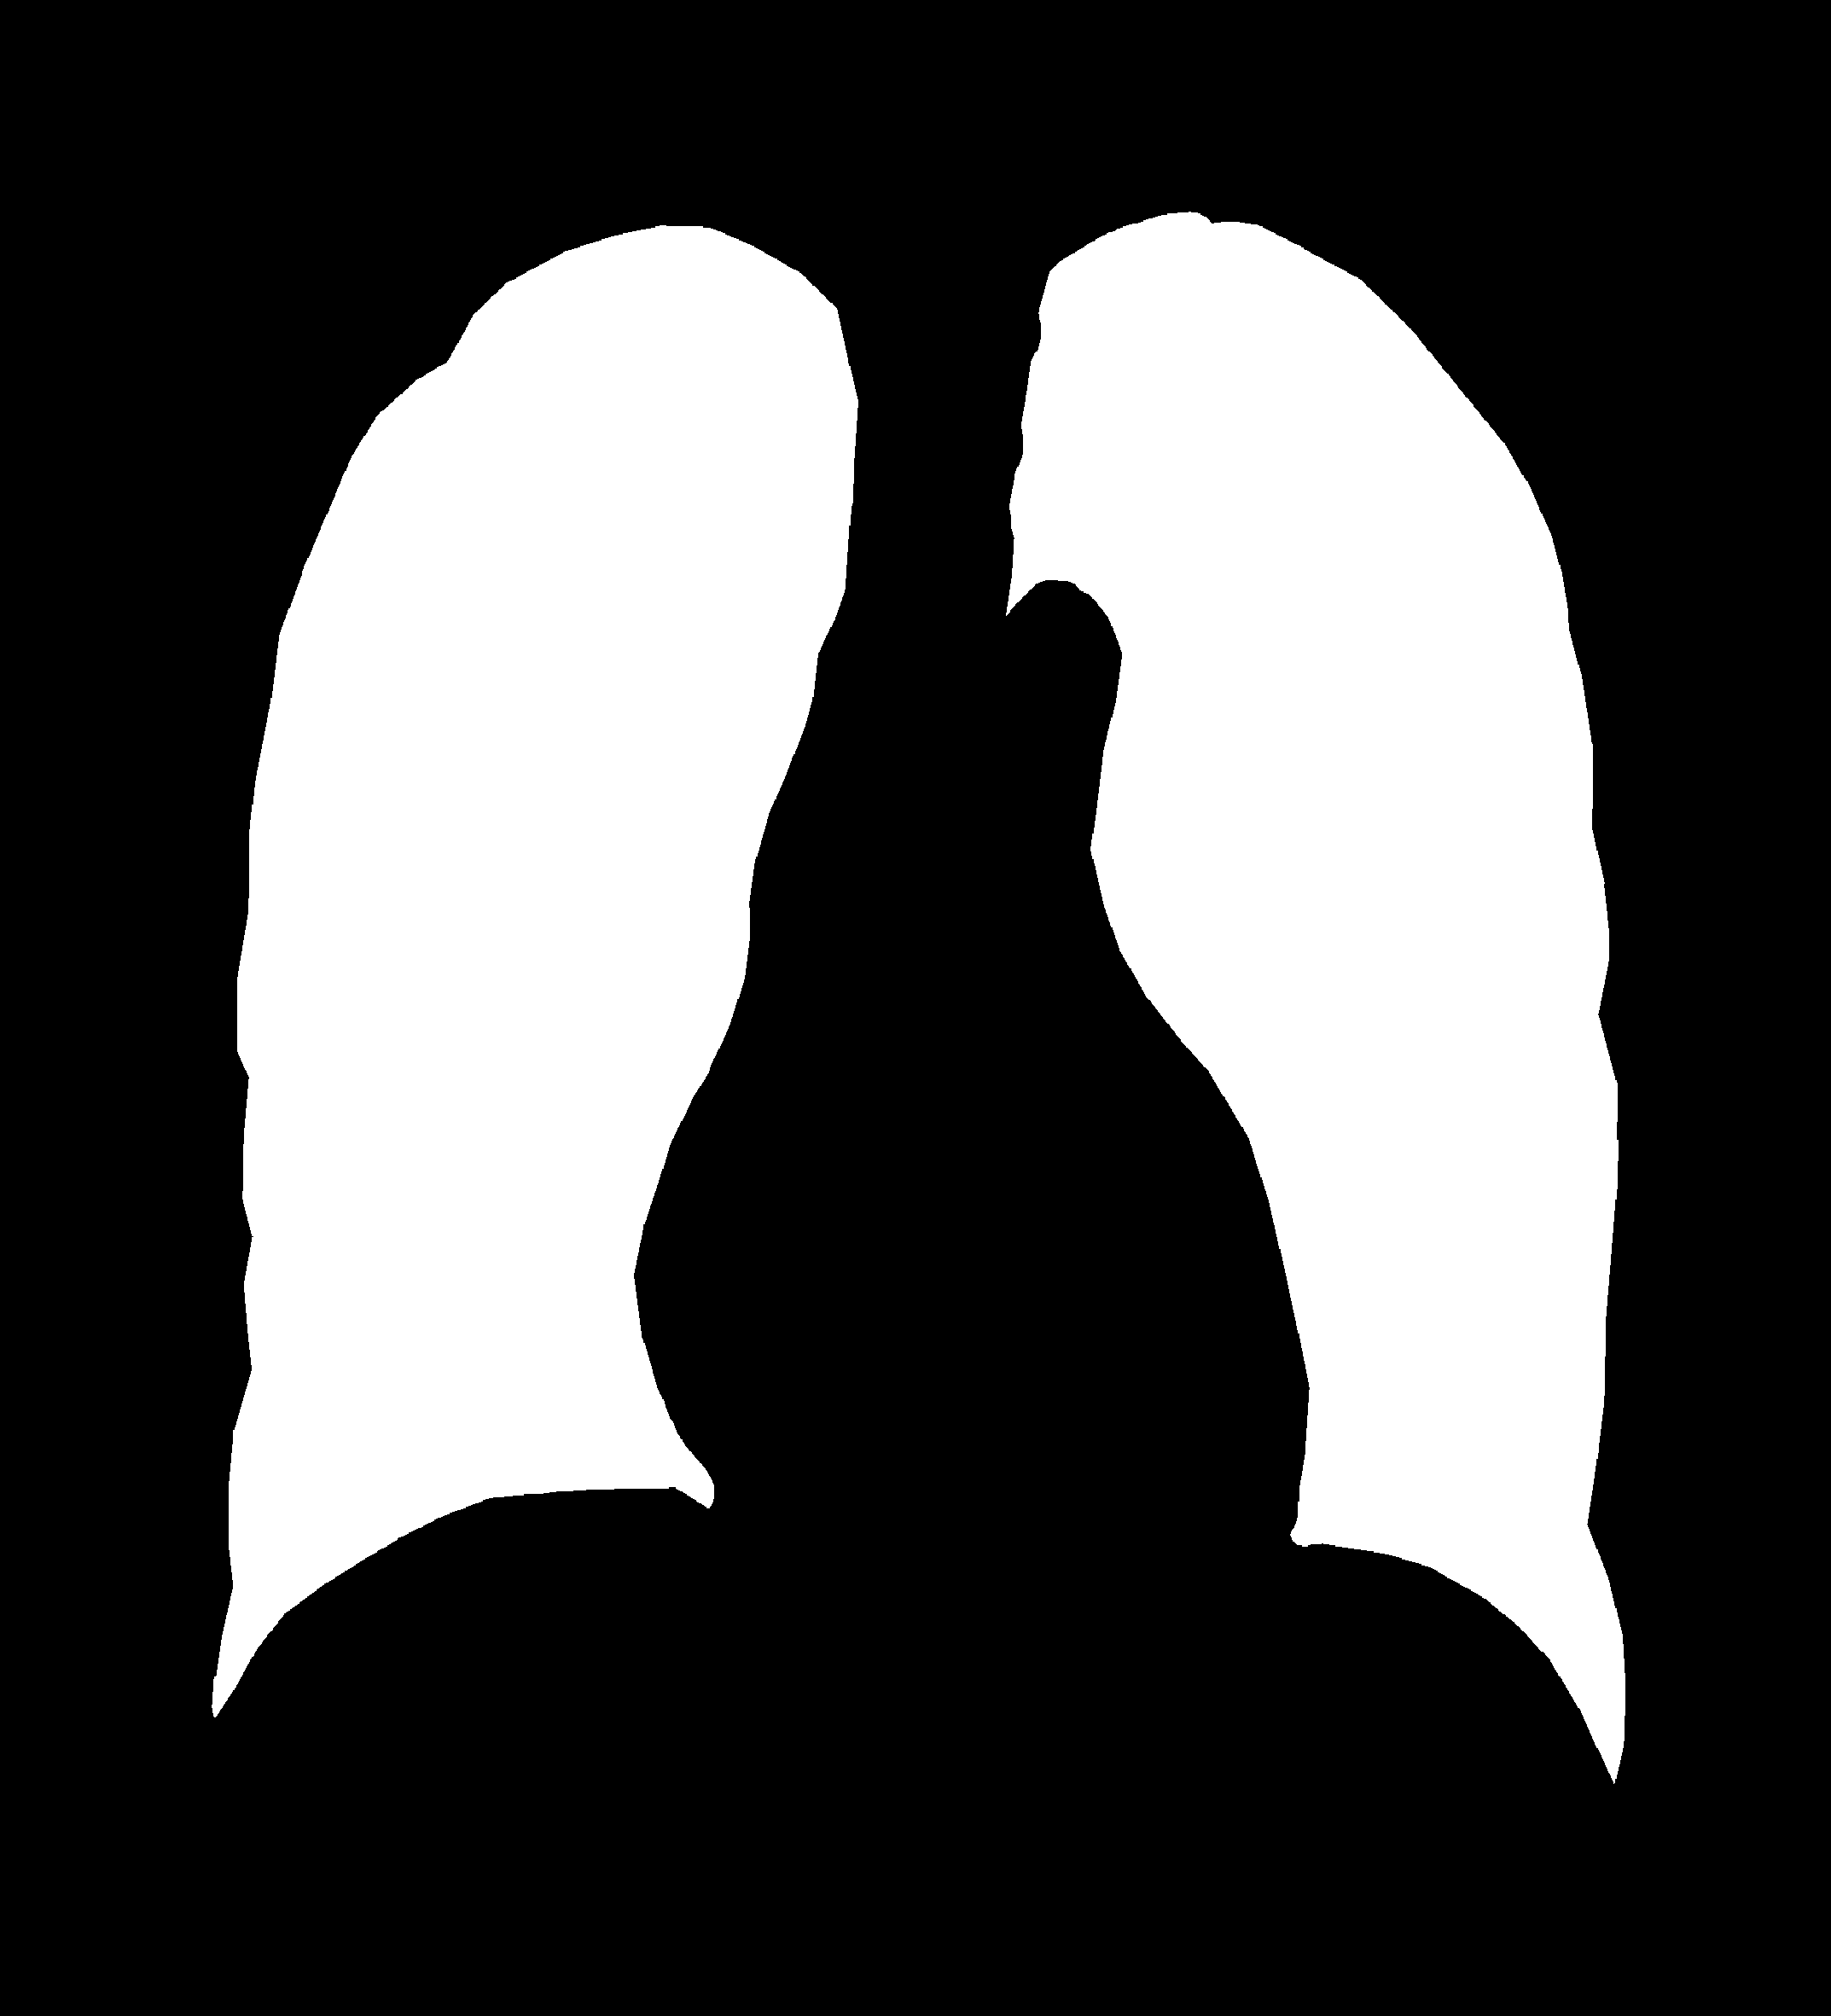heart: (635, 971, 1310, 1617)
left_lung: (212, 225, 857, 1716)
right_lung: (1006, 211, 1624, 1782)
